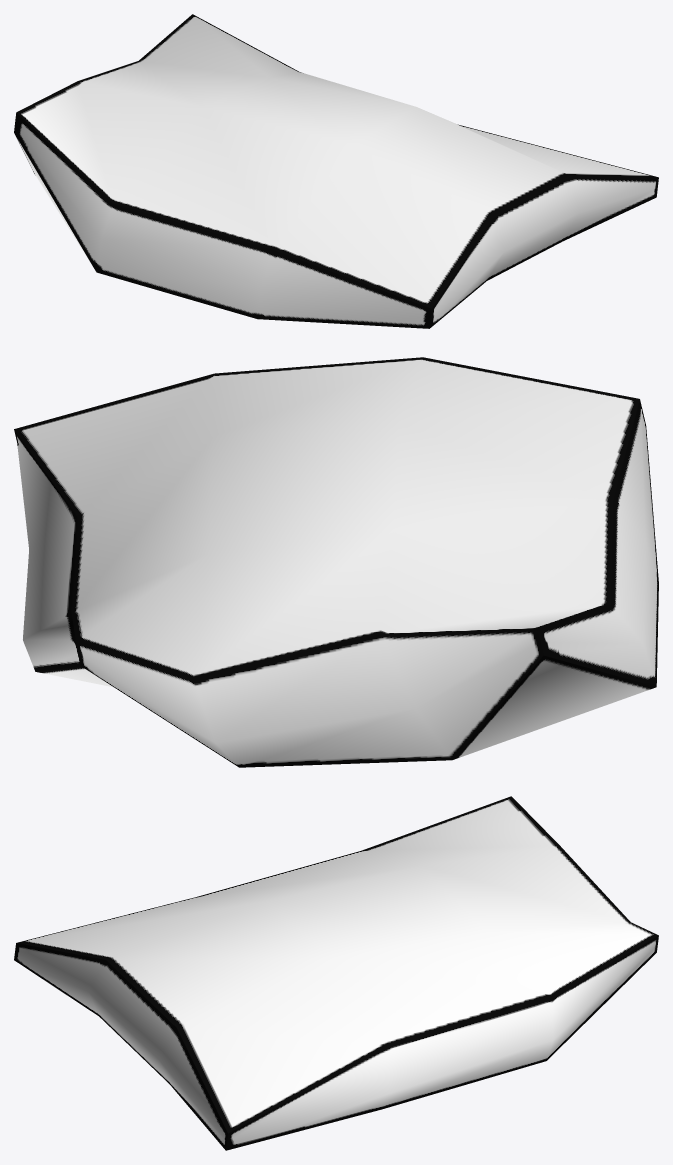
The model's file is pillowAfter.FBX.
3 renders of one model, top to bottom at view 1: azimuth 30°, elevation 25°; view 2: azimuth 150°, elevation 25°; view 3: azimuth 270°, elevation 25°, orthographic. The views are drawn at different scales.
Parts seen in each view (by area): view 1: Box001; view 2: Box001; view 3: Box001.
Part boxes in pixels (x1,y1,x2,y2): Box001: [14, 14, 658, 328]; Box001: [14, 357, 658, 767]; Box001: [14, 796, 658, 1150].
Bounding box in the file's own units: 18.8 × 4.85 × 20.36.
